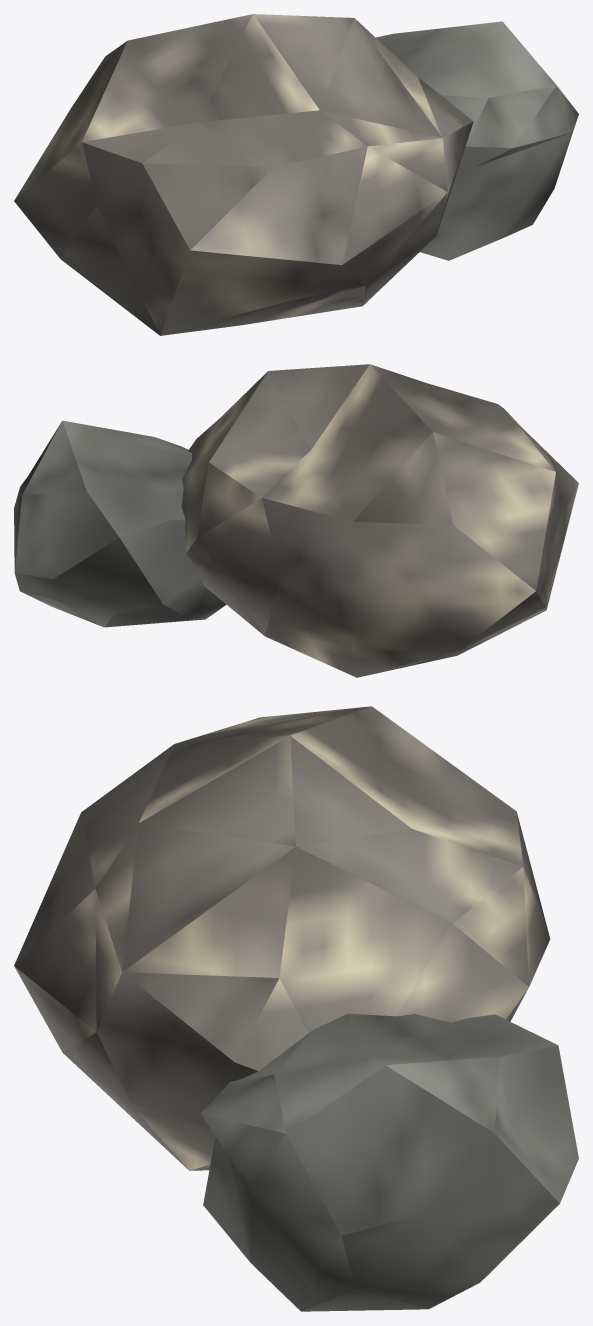
File: SM_Pickup_Stone.fbx
3 renders of one model, top to bottom at view 1: azimuth 30°, elevation 25°; view 2: azimuth 150°, elevation 25°; view 3: azimuth 270°, elevation 25°, orthographic. The views are drawn at different scales.
Parts seen in each view (by area): view 1: SM_Pickup_Stone; view 2: SM_Pickup_Stone; view 3: SM_Pickup_Stone.
Boxes of the visible parts, box(x1,y1,x2,y2) form: SM_Pickup_Stone: box(14, 14, 578, 335); SM_Pickup_Stone: box(14, 364, 578, 677); SM_Pickup_Stone: box(14, 706, 578, 1311).
Bounding box in the file's own units: 1.41 × 0.6931 × 0.9175.
Materials: 1 (1 with a texture image).
